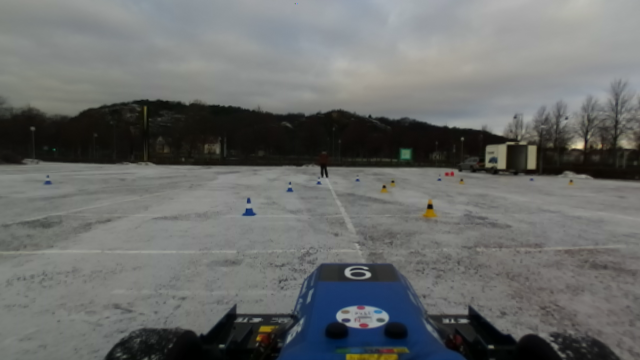blue: (241, 195, 256, 214)
yellow: (420, 198, 437, 220)
